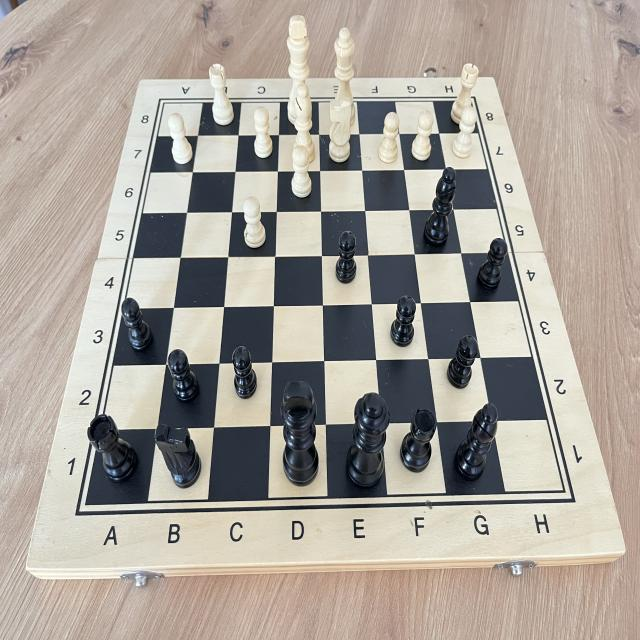black-bishop: (446, 392, 504, 489)
black-king: (272, 372, 324, 489)
black-knight: (150, 408, 207, 492)
black-pawn: (470, 233, 515, 304), (116, 290, 157, 359), (442, 327, 483, 395), (162, 342, 202, 408), (225, 339, 262, 404), (385, 286, 419, 356), (328, 223, 364, 289)
black-queen: (338, 384, 393, 496)
black-rook: (83, 405, 144, 490), (394, 395, 439, 481)
white-bishop: (285, 80, 322, 177)
white-king: (278, 9, 320, 133)
white-knight: (323, 95, 358, 172)
white-pawn: (234, 191, 272, 258), (161, 108, 199, 169), (448, 102, 481, 165), (247, 103, 278, 166), (286, 144, 315, 208), (408, 106, 437, 166), (374, 106, 402, 168)
white-queen: (328, 22, 362, 132)
white-rook: (446, 49, 486, 131), (198, 56, 240, 131)
